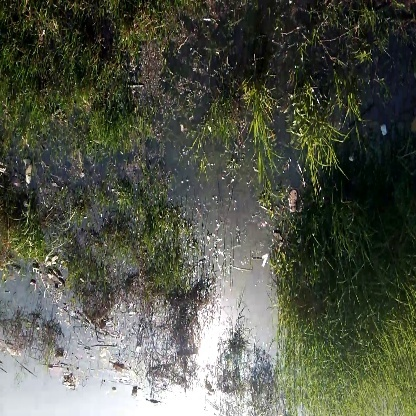grass: (284, 84, 352, 182)
